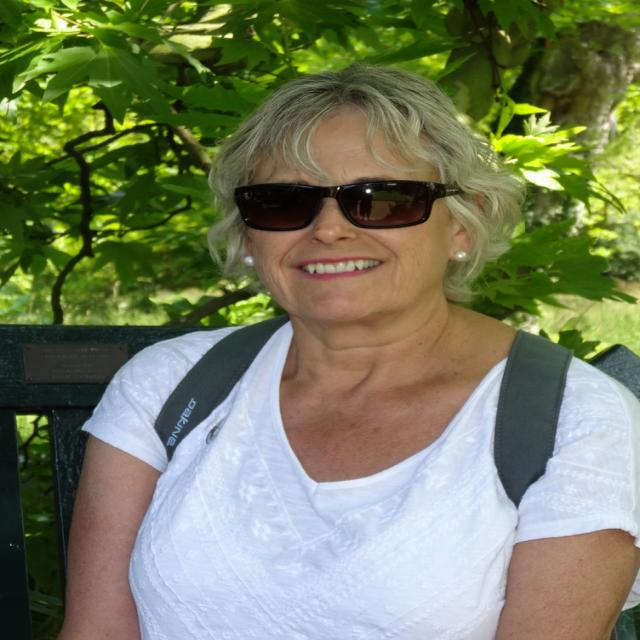Glasses: (235, 180, 476, 237)
